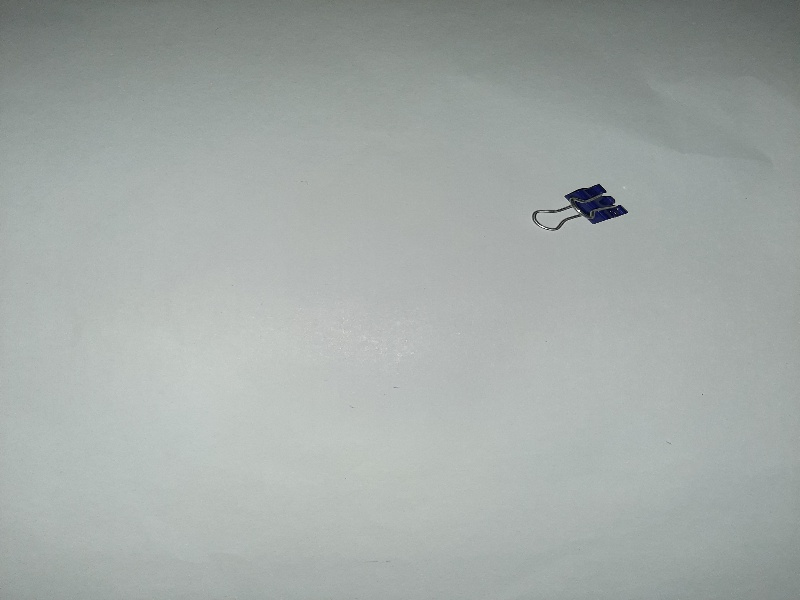Small Paperclip: (529, 168, 635, 235)
